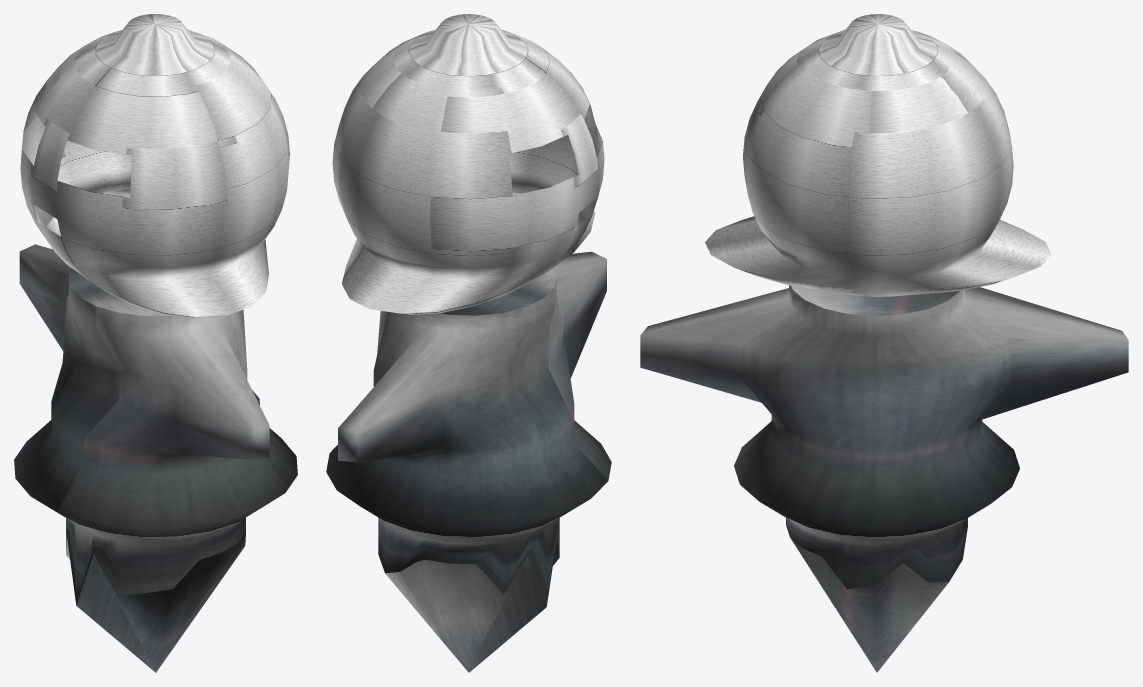
File: Robot.fbx
The picture shows the model from 3 angles, left to right: view 1: azimuth 30°, elevation 25°; view 2: azimuth 150°, elevation 25°; view 3: azimuth 270°, elevation 25°; orthographic projection.
Parts seen in each view (by area): view 1: pSphere2; view 2: pSphere2; view 3: pSphere2.
Part boxes in pixels (<box>): pSphere2: <box>14,14,297,672</box>; pSphere2: <box>326,14,611,672</box>; pSphere2: <box>640,14,1128,672</box>.
Size of the model in its own units: 1.89 by 4.73 by 3.23.
2 materials, 2 textured.
